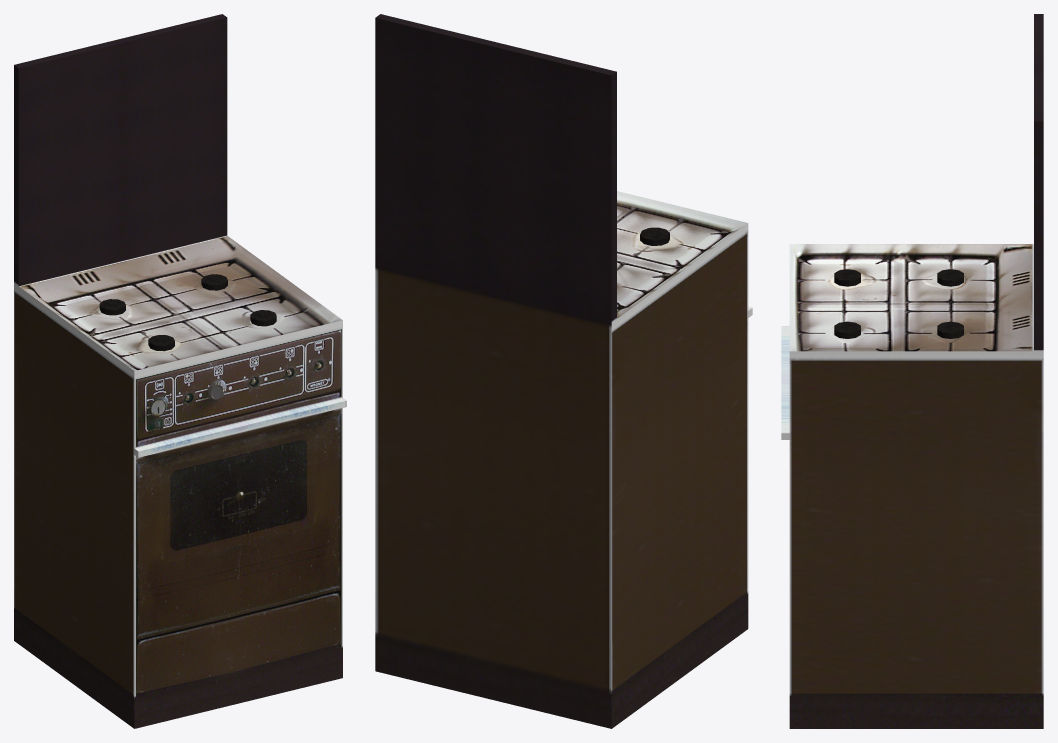
File: gasstove.FBX
The picture shows the model from 3 angles, left to right: view 1: azimuth 30°, elevation 25°; view 2: azimuth 150°, elevation 25°; view 3: azimuth 270°, elevation 25°; orthographic projection. The views are drawn at different scales.
Visible parts, largest first — view 1: gasstove; view 2: gasstove; view 3: gasstove.
Boxes of the visible parts, x1,y1,x2,y2 form: gasstove: [14, 14, 346, 728]; gasstove: [375, 14, 752, 728]; gasstove: [781, 14, 1043, 728].
Size of the model in its own units: 32.67 by 86.29 by 33.75.
1 material, 1 textured.
